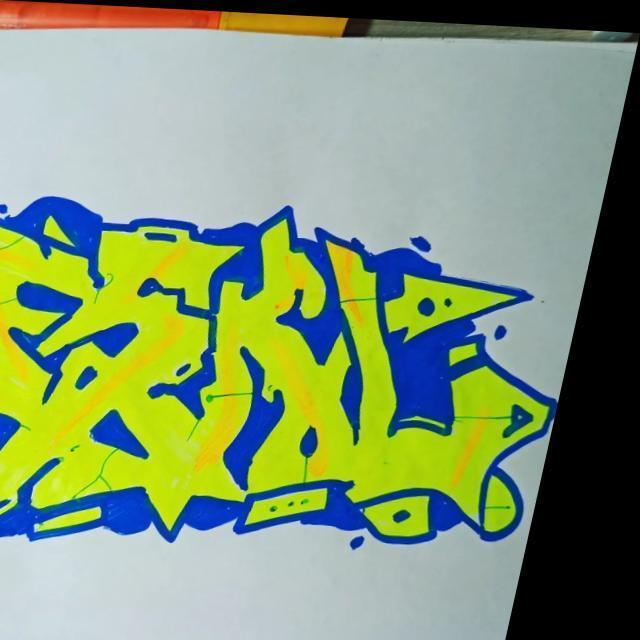nonspitting: (0, 192, 556, 551)
